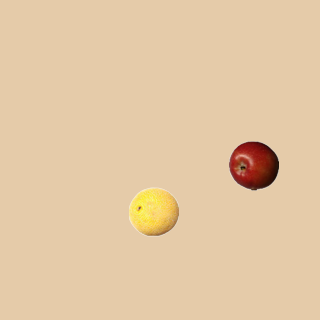Apple Braeburn: (228, 140, 278, 190)
Cantaloupe 1: (128, 186, 178, 236)
